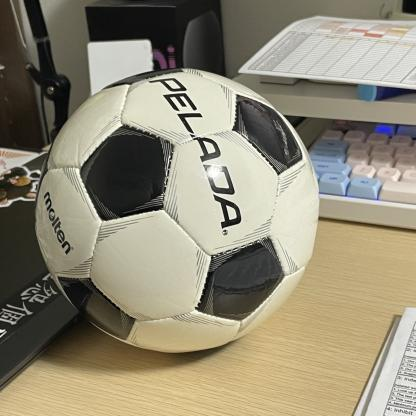ball: (33, 69, 318, 353)
